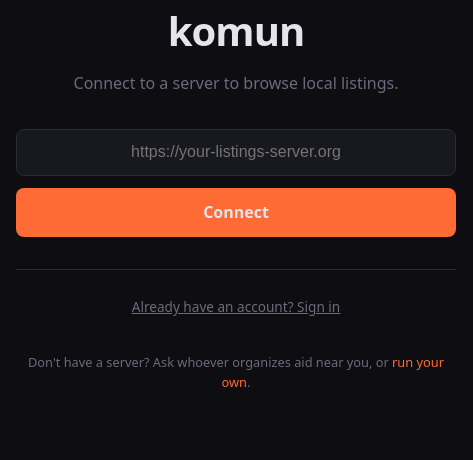
connect page › T1: an address without a scheme is answered in the page
Type "example.org" into the field at (236, 152), box [16,129,456,176]
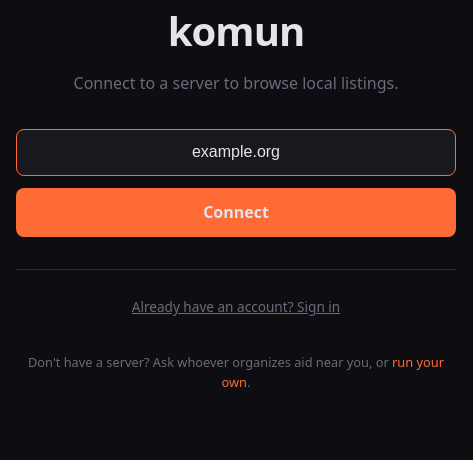
Click the button "Connect" at (236, 213), box [16,188,456,237]
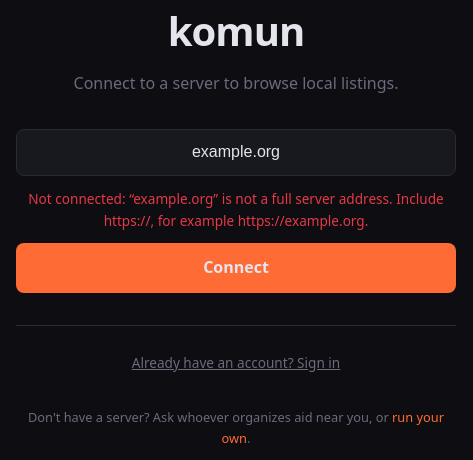
Result: the message shows "Not connected" at [28,189,444,230]
Result: the message shows "https://" at [28,189,444,230]
